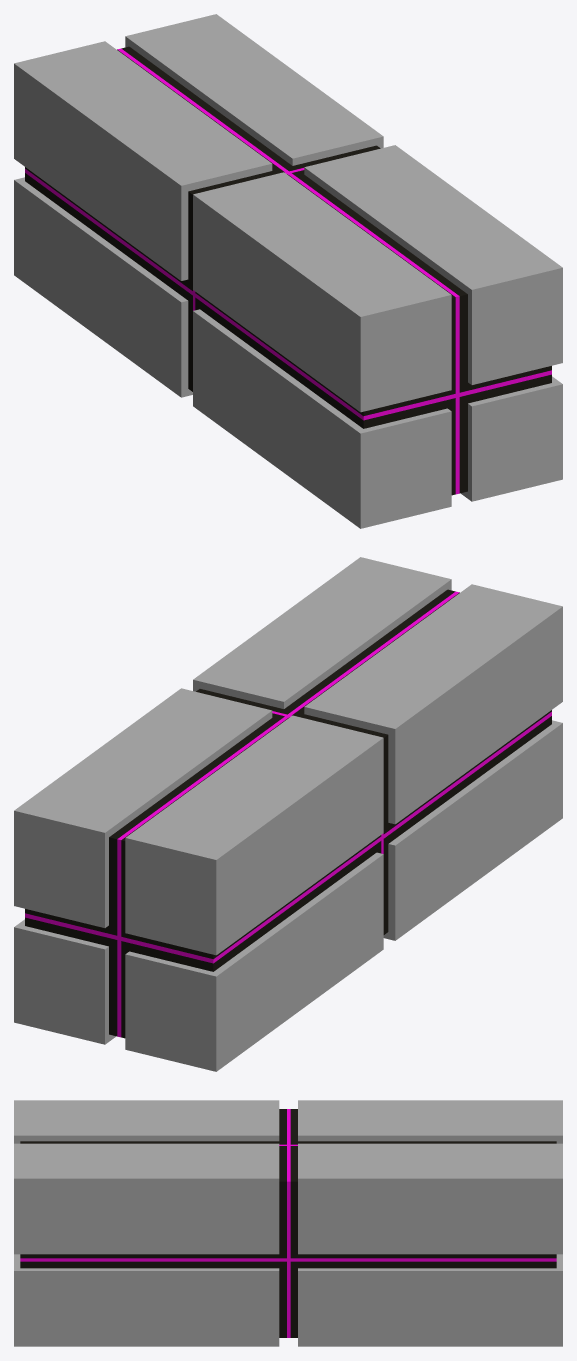
Rendered from Energy_Crate_1x3_Pink.fbx.
The picture shows the model from 3 angles, top to bottom: view 1: azimuth 30°, elevation 25°; view 2: azimuth 150°, elevation 25°; view 3: azimuth 270°, elevation 25°; orthographic projection. The views are drawn at different scales.
Visible parts, largest first — view 1: Energy_Crate_1x3_Pink; view 2: Energy_Crate_1x3_Pink; view 3: Energy_Crate_1x3_Pink.
Boxes of the visible parts, x1,y1,x2,y2 form: Energy_Crate_1x3_Pink: (14,14,562,528); Energy_Crate_1x3_Pink: (14,557,562,1071); Energy_Crate_1x3_Pink: (14,1100,562,1346).
Bounding box in the file's own units: 100 × 100 × 297.
